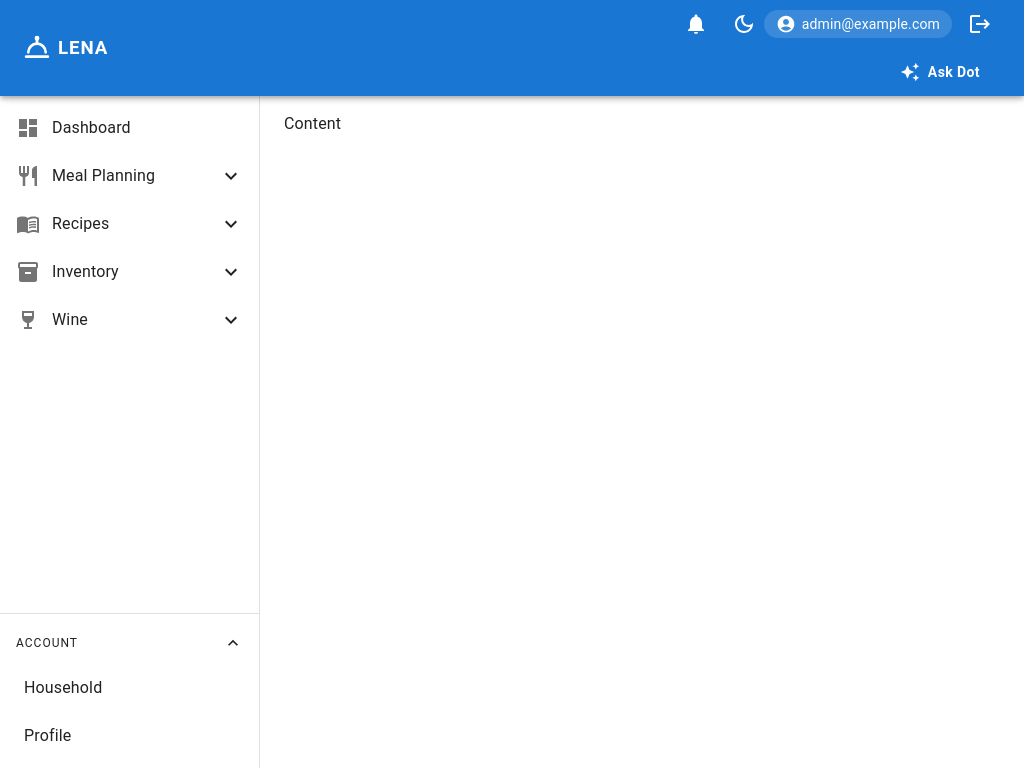
Test: AdminLayout › hides every admin-only destination from members
The width and height of the screenshot is (1024, 768).
Check: the text "Content" is shown, box [284, 114, 341, 133]
Note: Member-visible entries still appear inside the groups.
Click the button "Inventory": (85, 272) [16, 260, 243, 284]
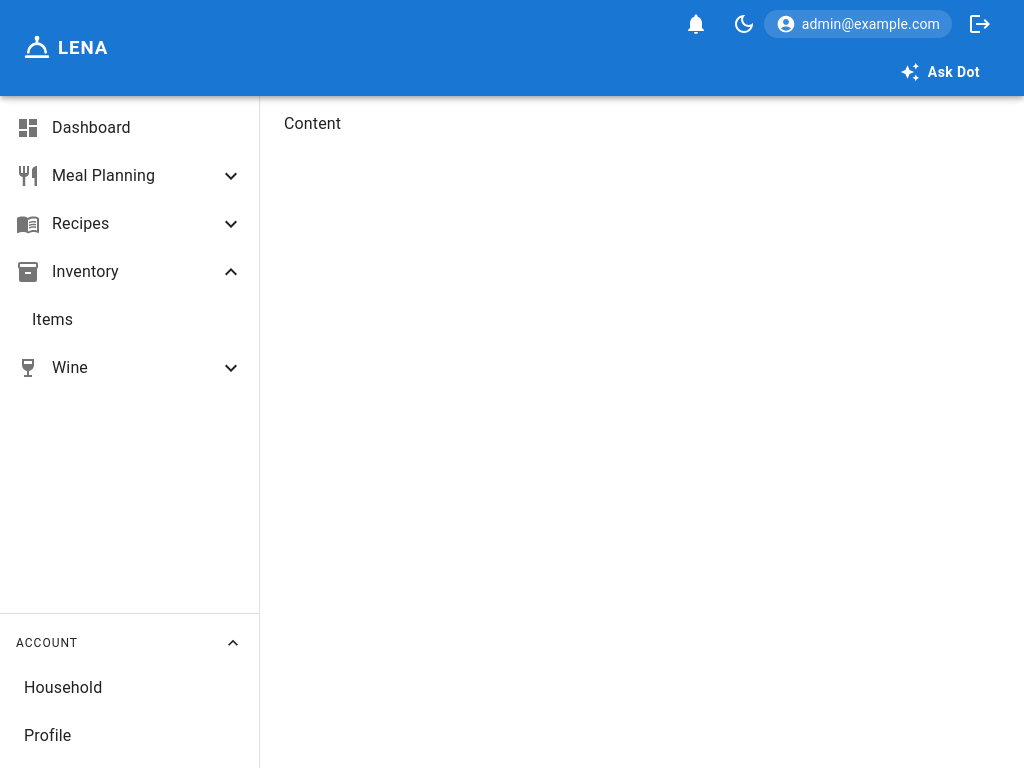
Check: the text "Items" is shown, box [32, 310, 73, 329]
Click the button "Wine": (70, 368) [16, 356, 243, 380]
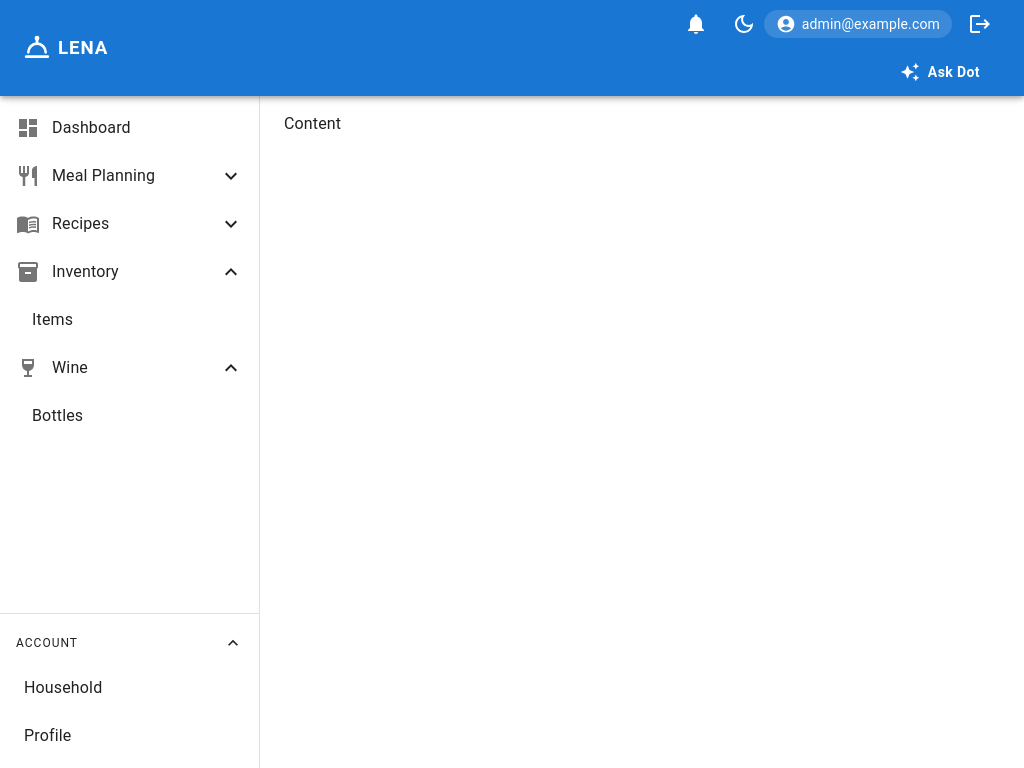
Check: the text "Bottles" is shown, box [32, 406, 83, 425]
